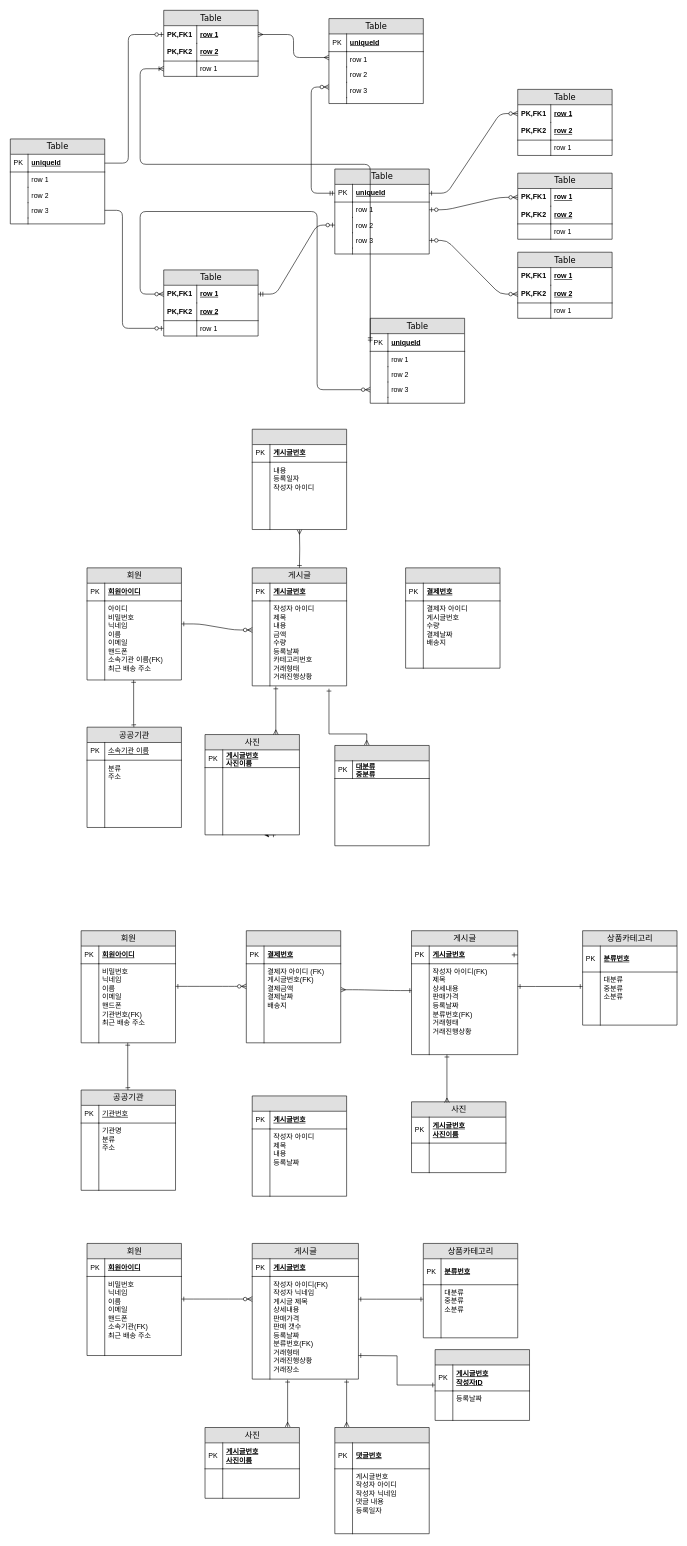
This 687x1546 diagram has some shape labels left out. Each missing label, with the box of its shape:
결제내역: (246, 930, 341, 1043)
결제내열: (405, 567, 500, 668)
공지사항: (252, 1095, 347, 1196)
댓 글: (252, 429, 347, 530)
댓글: (334, 1427, 429, 1534)
찜하기: (435, 1349, 530, 1420)
카테고리: (334, 745, 429, 846)
